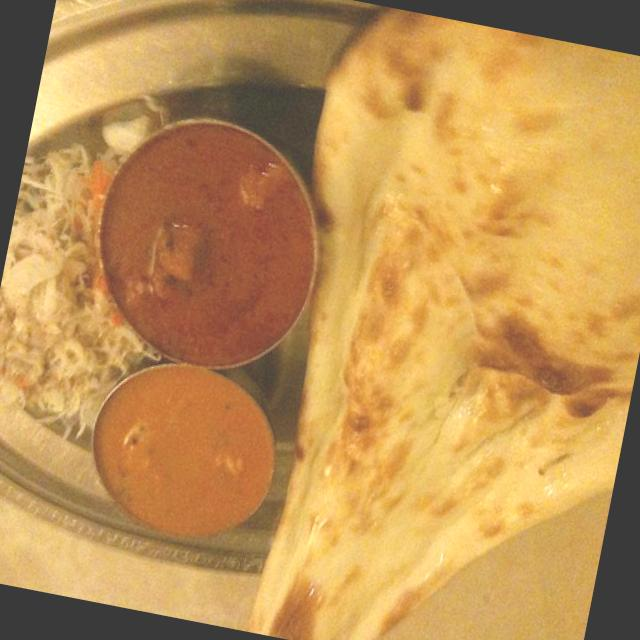Beef Curry: (118, 158, 289, 340)
